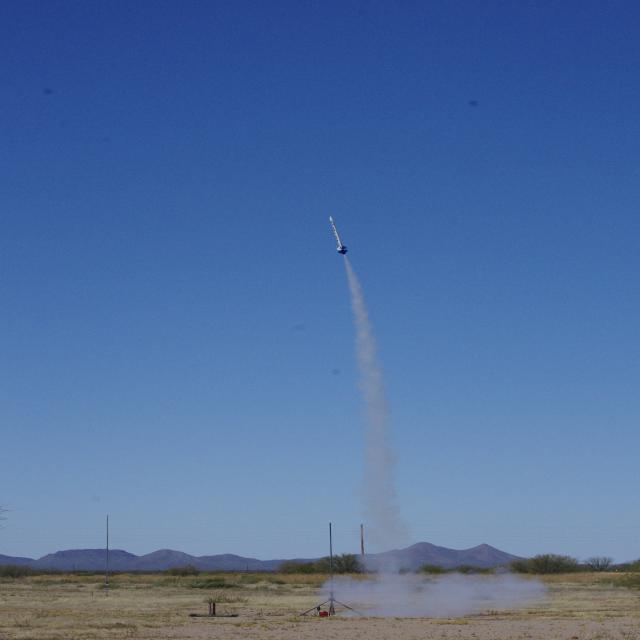Rocket: (328, 216, 349, 256)
